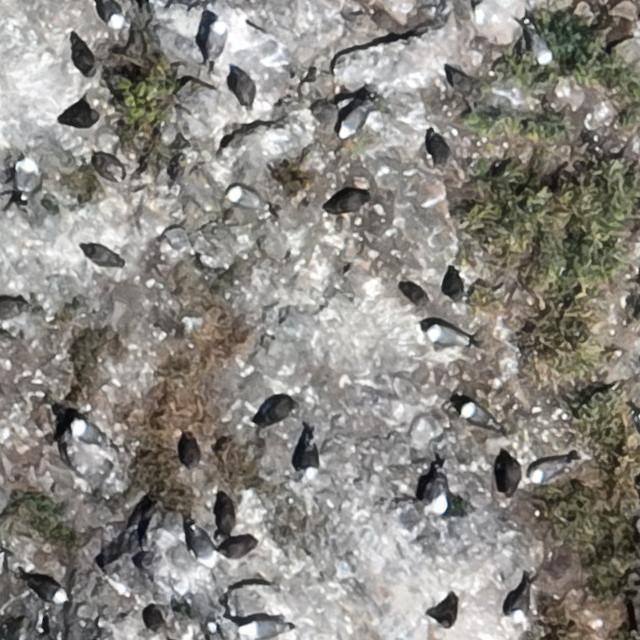umineko: (427, 462, 446, 514), (210, 538, 256, 559), (31, 578, 66, 602), (338, 106, 364, 137), (463, 403, 494, 428), (427, 326, 465, 346), (228, 188, 262, 210), (84, 248, 120, 268), (532, 462, 566, 483), (245, 620, 282, 638), (532, 32, 552, 64), (207, 20, 224, 56), (99, 0, 121, 27), (15, 161, 33, 194), (74, 423, 101, 444), (301, 442, 317, 476), (511, 588, 528, 620)
